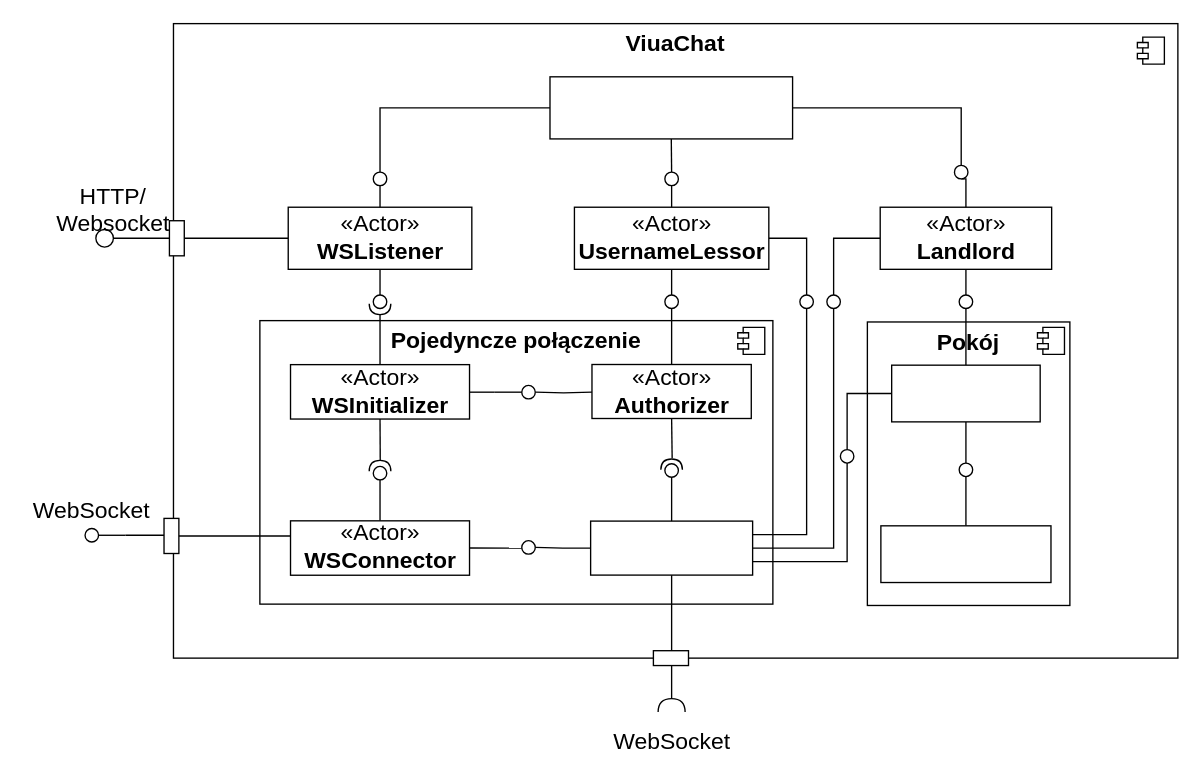
Image size: 1202x780. Some labels were removed from this diagram. The centre of each missing label's shape, as x and y in pixels:
"«Actor» Architect" goes at point 671,107.
"«Actor» MessageBuffer" goes at point 965,553.
"«Actor» Room" goes at point 965,393.
"«Actor» UserSession" goes at point 671,547.
